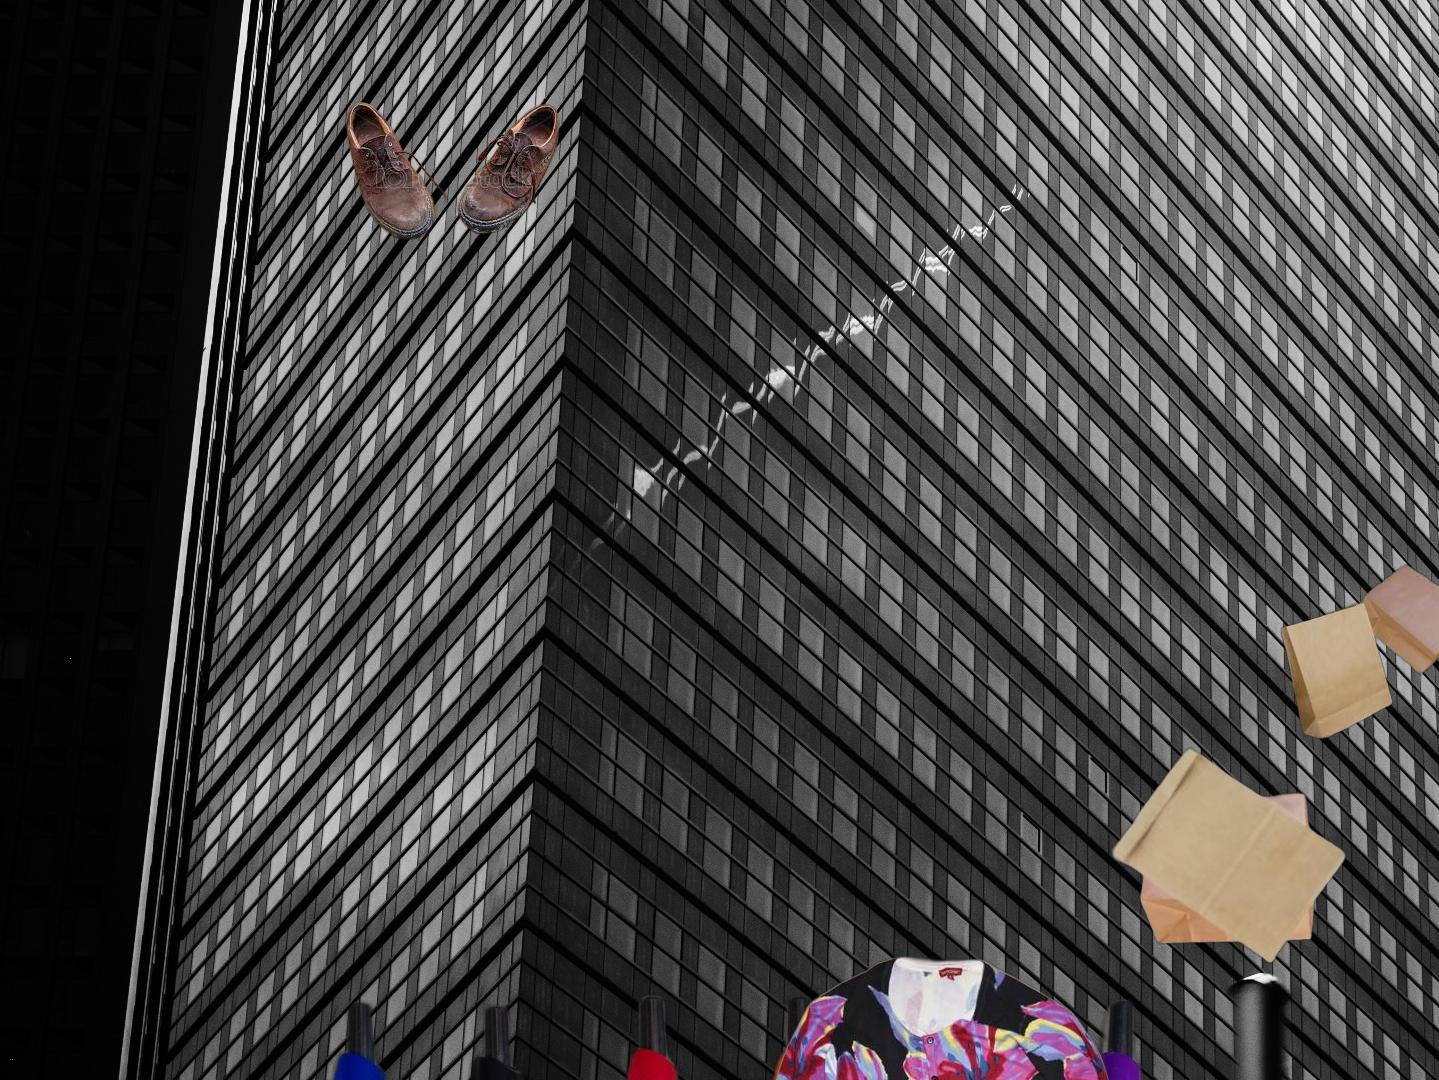clothes: (755, 951, 1127, 1080)
paper-bag: (1104, 745, 1349, 965), (1278, 562, 1439, 742)
penholder: (302, 987, 1159, 1080)
shoes: (333, 99, 562, 243)
trashbox-cardboard: (1374, 709, 1439, 1039)
